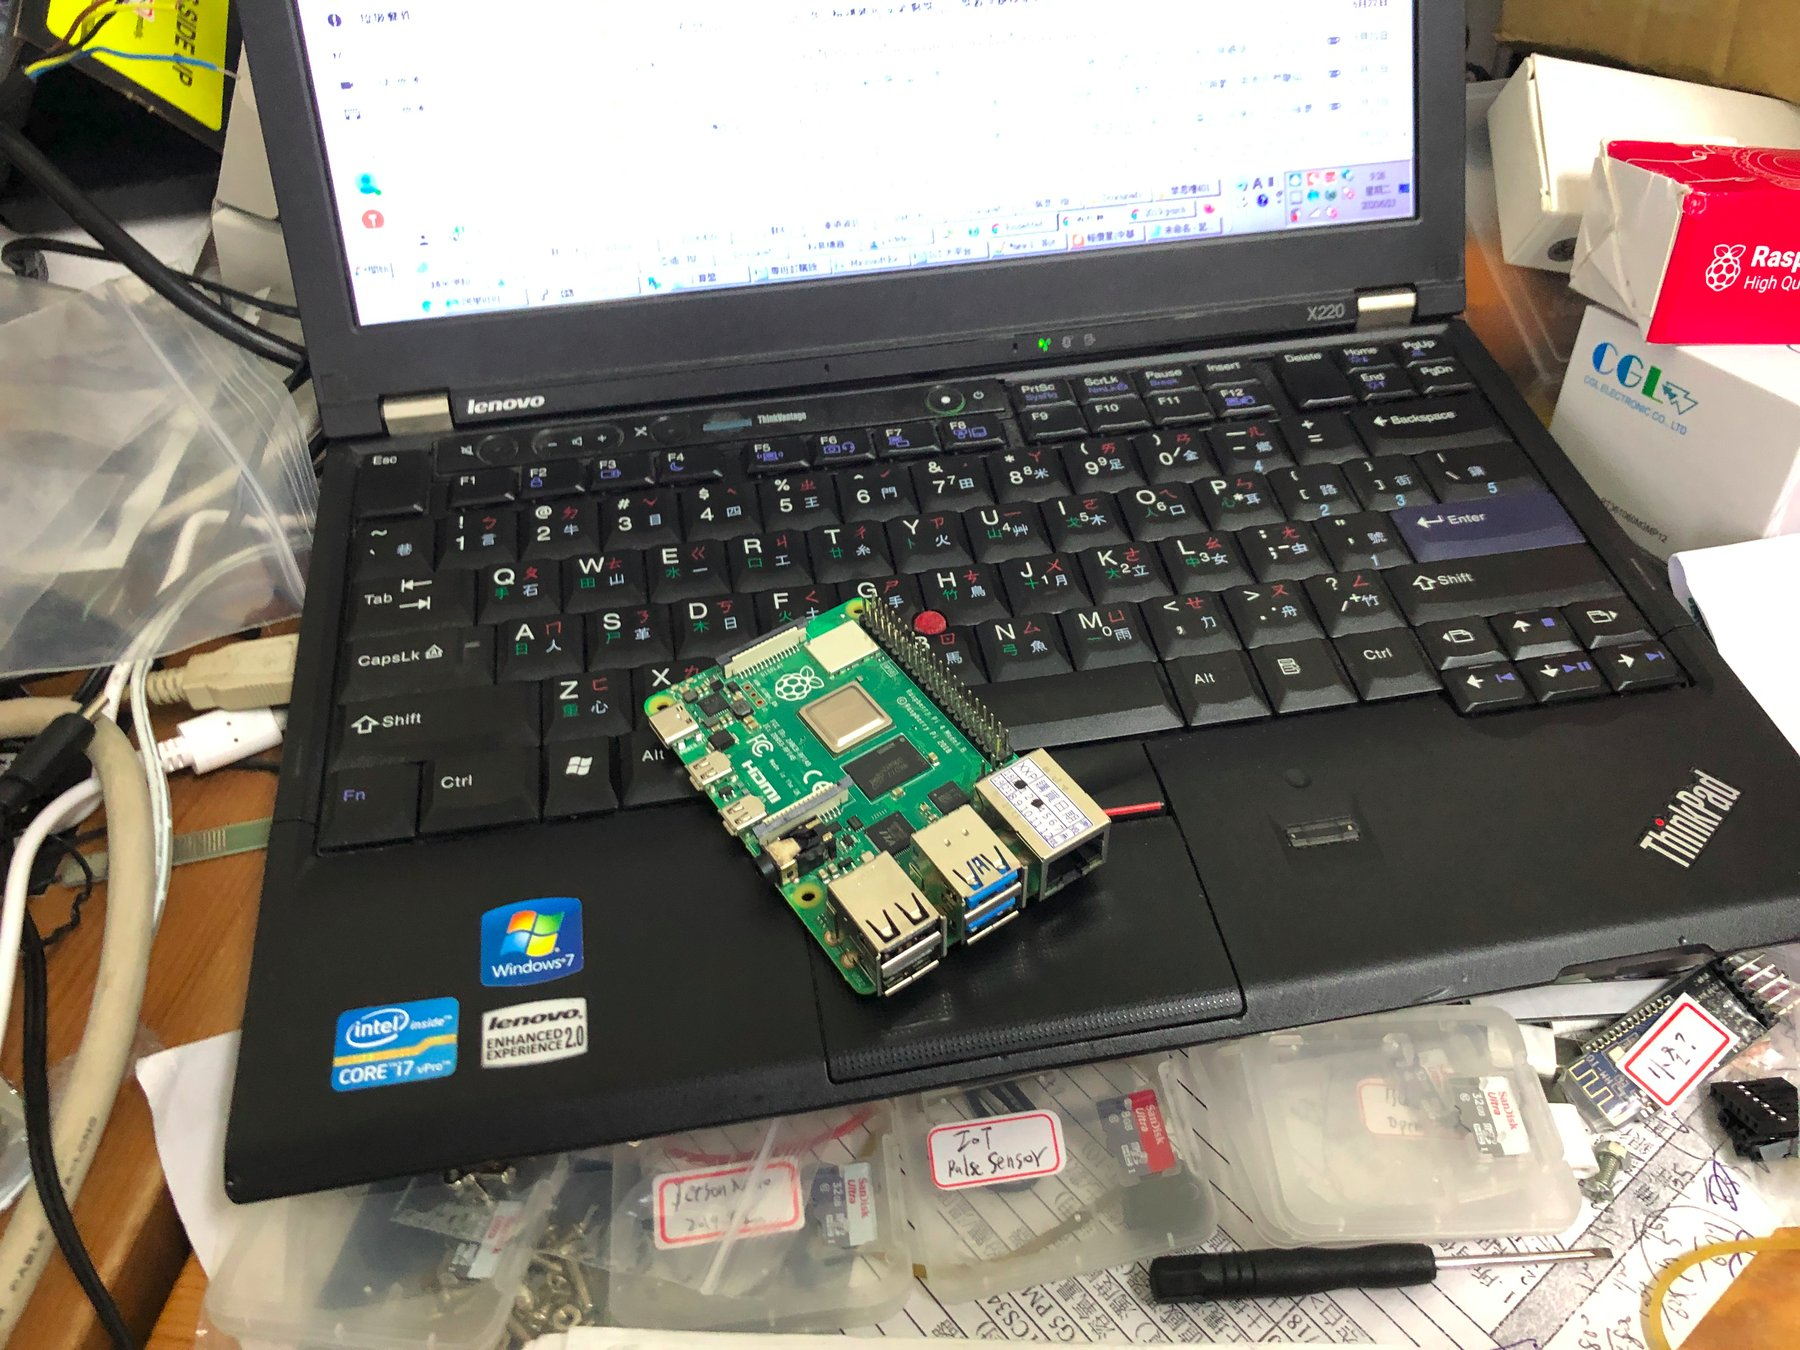pi: (634, 576, 1123, 1012)
